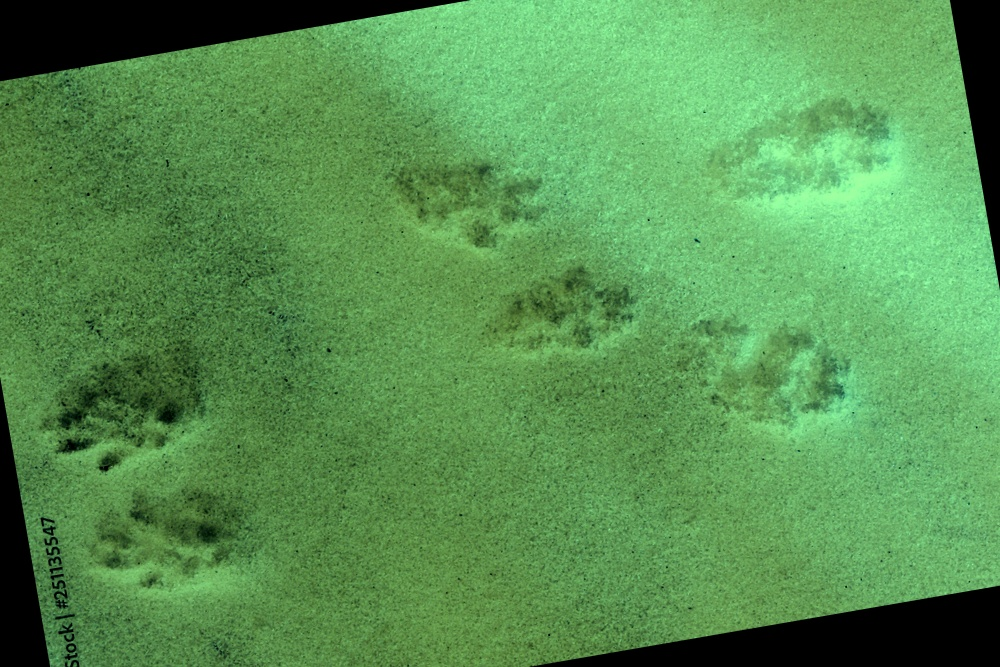ecureuil: (683, 62, 929, 232), (65, 452, 280, 636), (343, 112, 570, 282), (658, 290, 881, 461), (449, 230, 659, 382), (23, 332, 215, 489)
